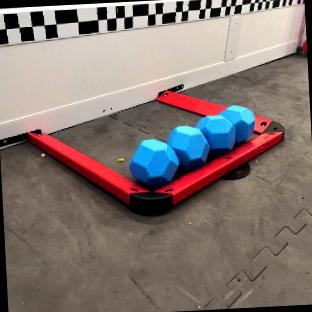V5_BLUE: (129, 138, 177, 188), (168, 125, 208, 170), (196, 114, 235, 155), (220, 104, 254, 142)
